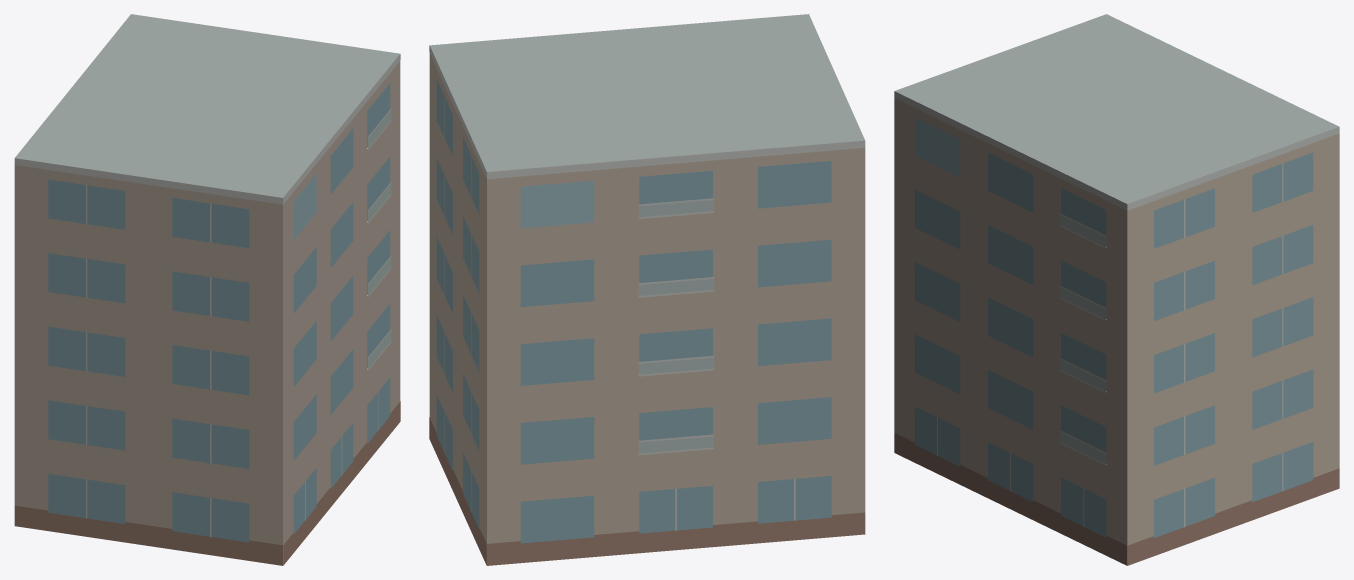
Rendered from survey-upis-32630078.glb.
3 renders of one model, left to right at view 1: azimuth 30°, elevation 25°; view 2: azimuth 150°, elevation 25°; view 3: azimuth 270°, elevation 25°, orthographic. The views are drawn at different scales.
Visible parts, largest first — view 1: survey-upis-32630078.tmp; view 2: survey-upis-32630078.tmp; view 3: survey-upis-32630078.tmp.
Boxes of the visible parts, x1=… form: survey-upis-32630078.tmp: x1=14, y1=14, x2=400, y2=565; survey-upis-32630078.tmp: x1=429, y1=14, x2=865, y2=565; survey-upis-32630078.tmp: x1=894, y1=14, x2=1339, y2=565.
Size of the model in its own units: 15.01 by 13.3 by 14.85.
